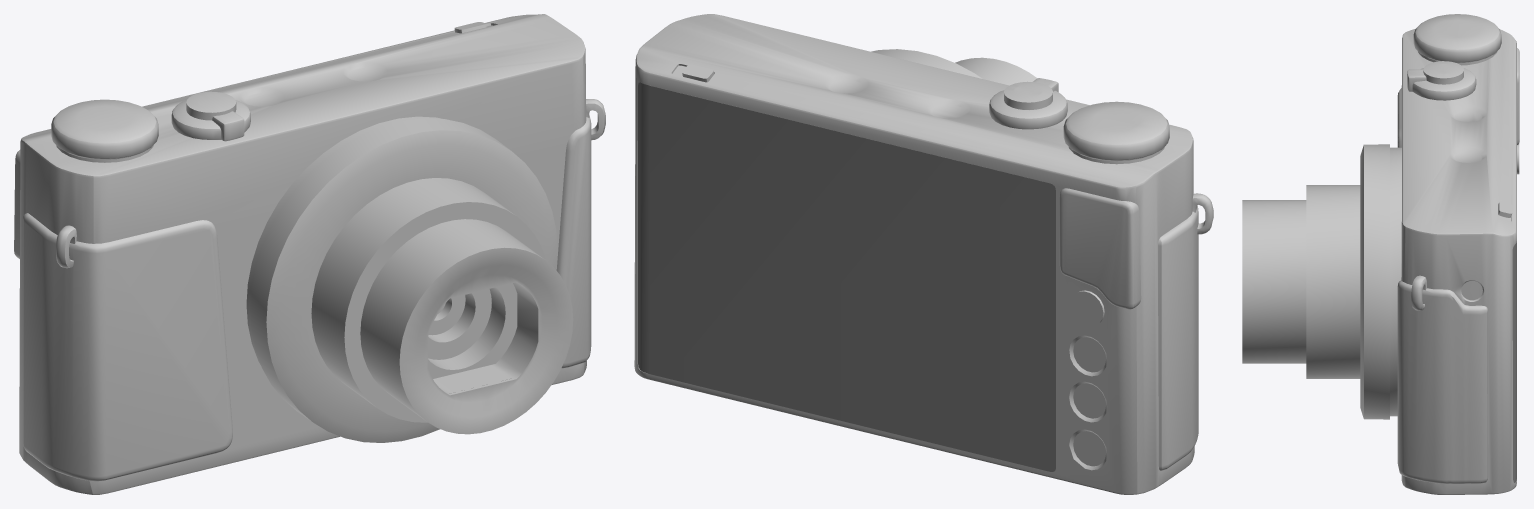
The model's file is Digital_Camera.FBX.
3 views of the same model, side by side, from view 1: azimuth 30°, elevation 25°; view 2: azimuth 150°, elevation 25°; view 3: azimuth 270°, elevation 25° (orthographic). The views are drawn at different scales.
Parts seen in each view (by area): view 1: Digital_Camera_2; view 2: Digital_Camera_2; view 3: Digital_Camera_2.
Boxes of the visible parts, left/top/right/bottom form: Digital_Camera_2: left=14, top=14, right=605, bottom=494; Digital_Camera_2: left=634, top=14, right=1213, bottom=494; Digital_Camera_2: left=1242, top=14, right=1519, bottom=494.
Size of the model in its own units: 10.08 by 6.05 by 5.4.
